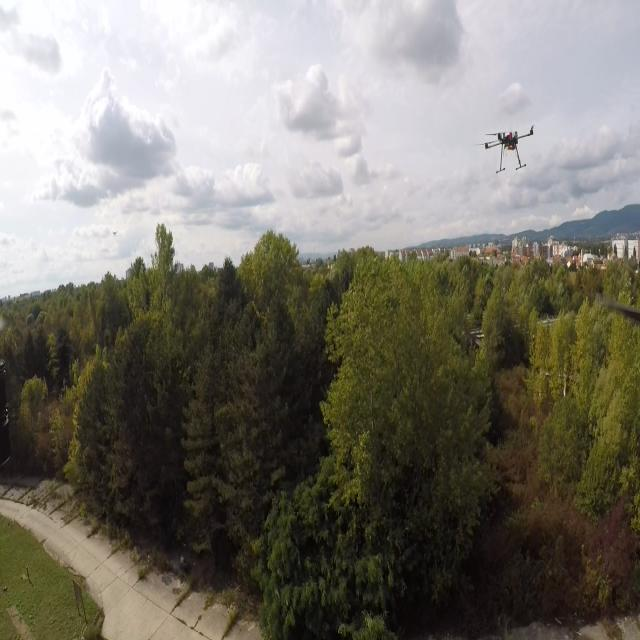UAV: (477, 115, 539, 177)
